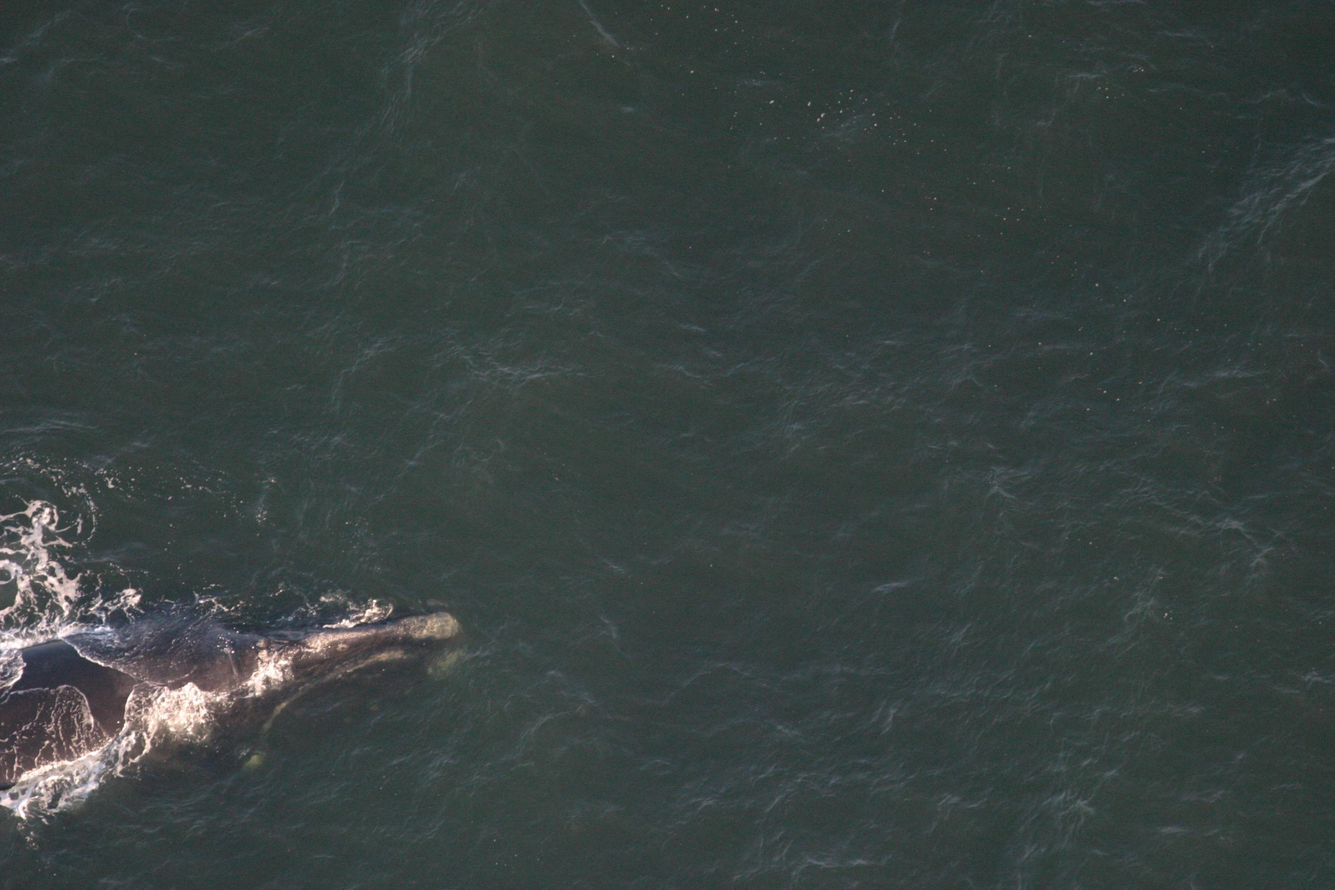whale: (0, 596, 471, 839)
